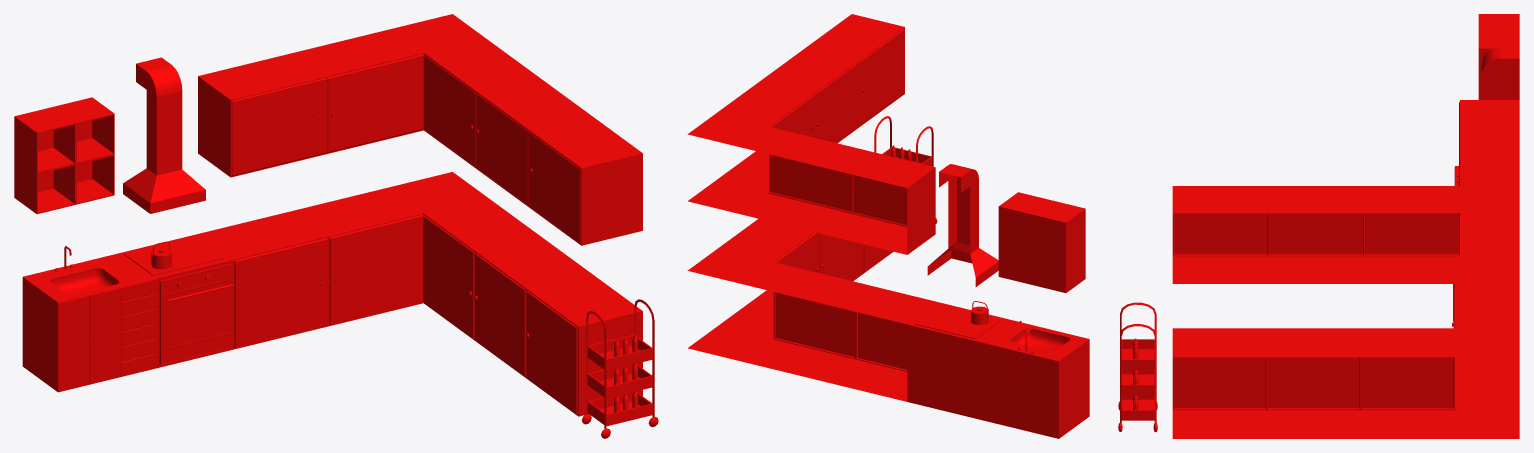
File: kitchen 01.fbx
3 renders of one model, left to right at view 1: azimuth 30°, elevation 25°; view 2: azimuth 150°, elevation 25°; view 3: azimuth 270°, elevation 25°, orthographic. The views are drawn at different scales.
Parts seen in each view (by area): view 1: Box009; view 2: Box009; view 3: Box009.
Part boxes in pixels (x1,y1,x2,y2): Box009: (14, 14, 658, 438); Box009: (687, 14, 1089, 438); Box009: (1118, 14, 1519, 438).
Bounding box in the file's own units: 450 × 271 × 391.
